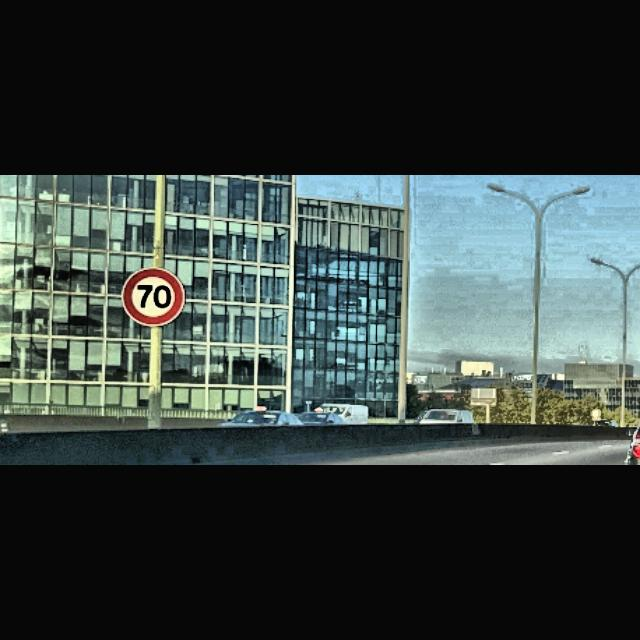speed_70: (122, 268, 186, 328)
